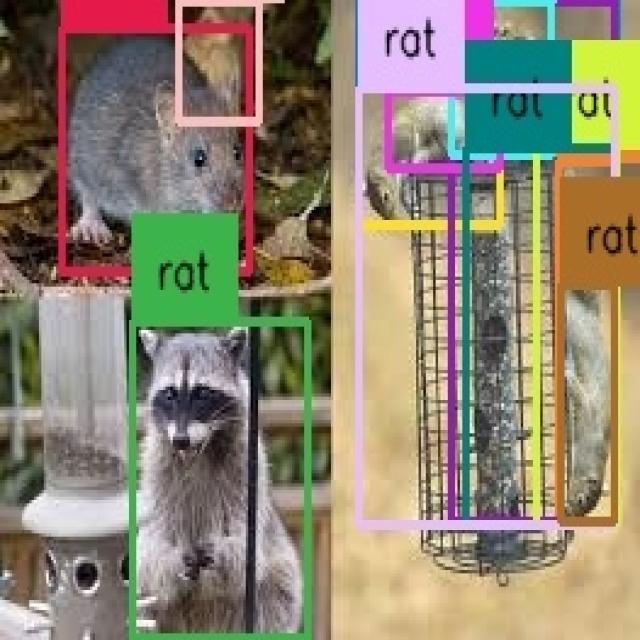rat: (359, 0, 617, 527), (359, 88, 614, 525), (452, 0, 615, 523), (467, 147, 616, 523), (132, 320, 306, 640), (62, 27, 249, 273), (538, 148, 616, 525), (558, 160, 614, 523), (358, 88, 501, 225), (453, 0, 550, 157), (562, 285, 616, 522), (178, 0, 259, 123), (388, 90, 500, 167)
